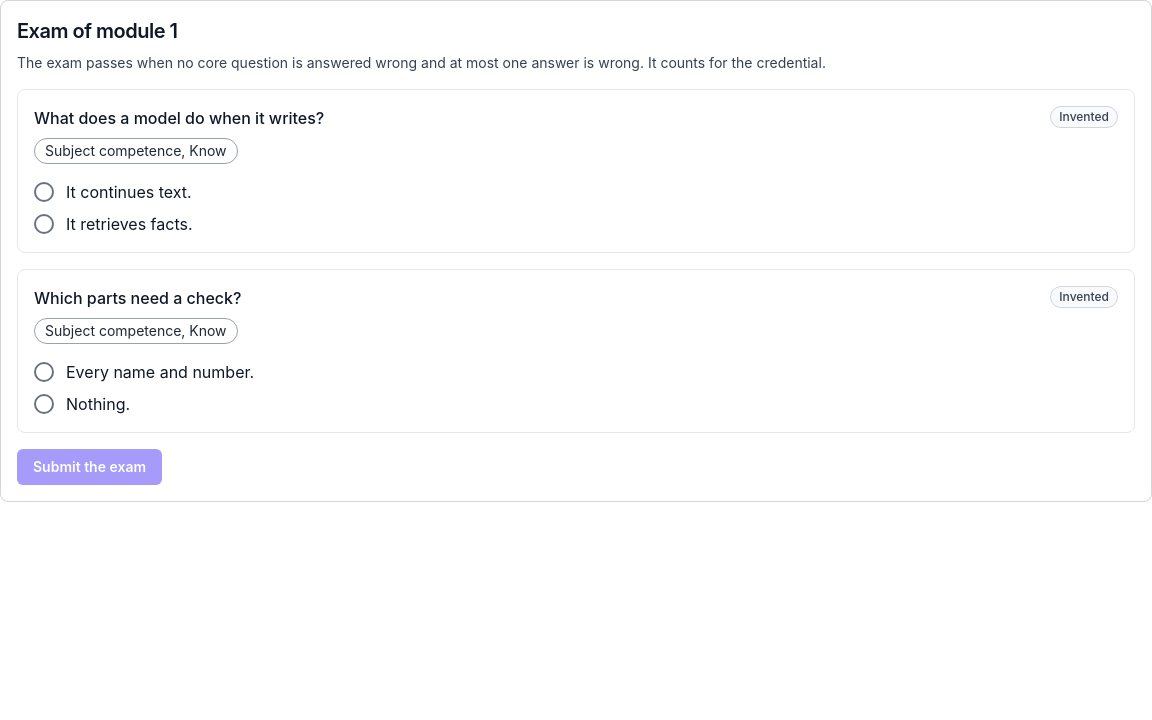
Test: ExamSection › the outcome failed_core renders with its reason and no percent sign
This screenshot has width=1152, height=720.
Expected: the heading "Exam of module 1" is shown, [17, 19, 178, 43]
Click the radio button named "It continues text." next to "It continues text." at (44, 192), box [34, 182, 54, 202]
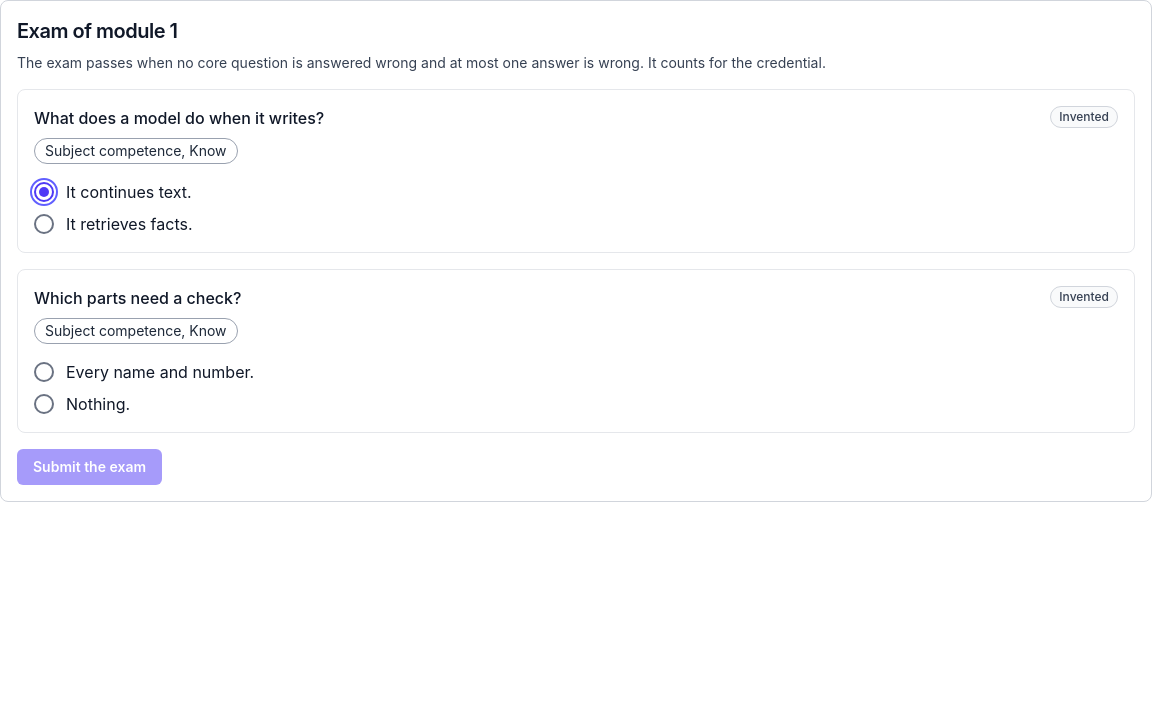
Click the radio button named "Nothing." next to "Nothing." at (44, 404), box [34, 394, 54, 414]
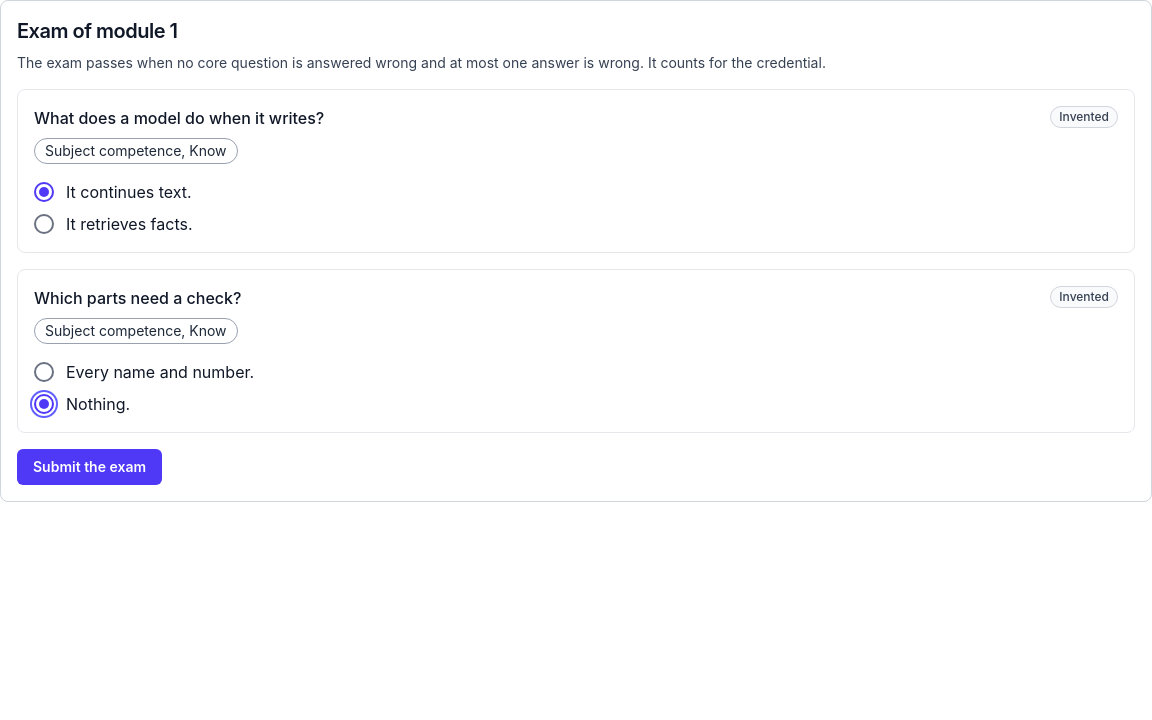
Click the button "Submit the exam" at (90, 467), box [17, 449, 162, 485]
(page scrolled)
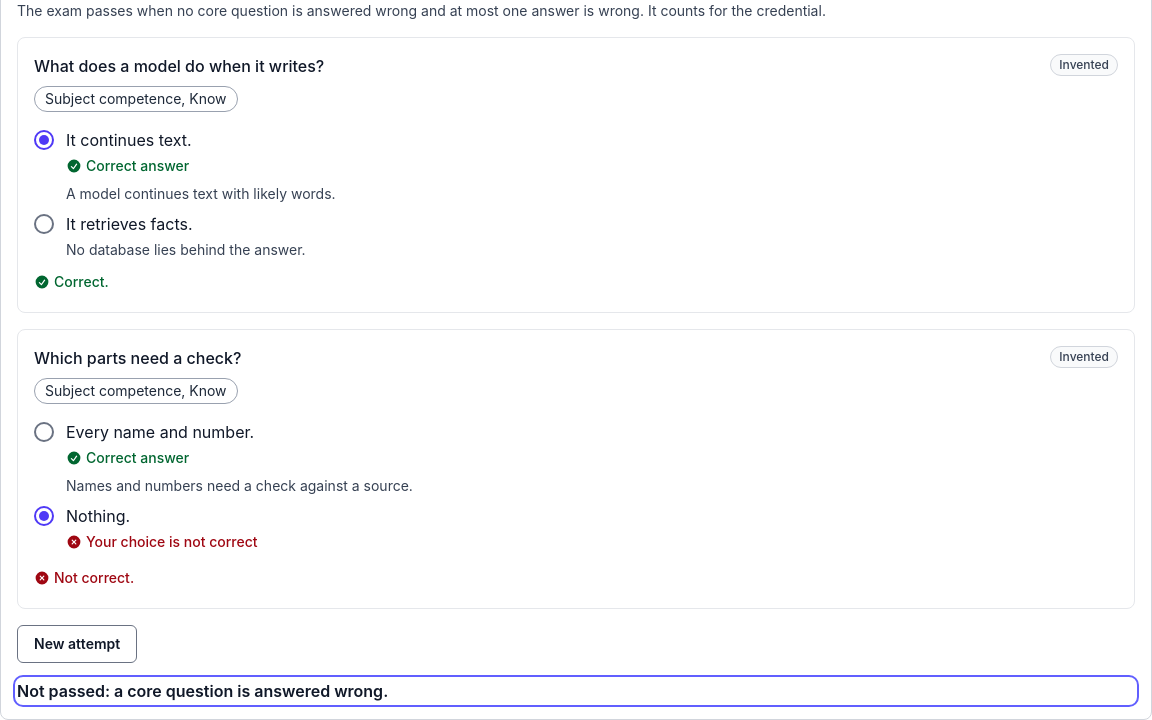
Expected: the message "Not passed: a core question is answered wrong." is shown, [17, 681, 388, 701]
